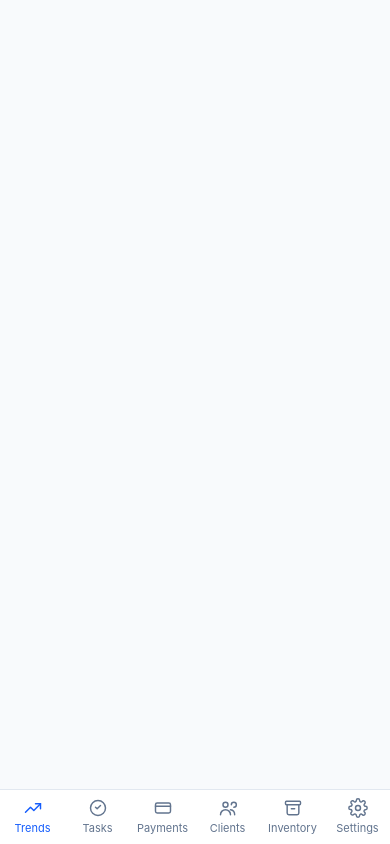
MobileNav › кнопка "×" в шапке закрывает bottom-sheet (useMenuSub().close)
Click the button "Inventory".
click(292, 817)  # box [260, 790, 325, 843]
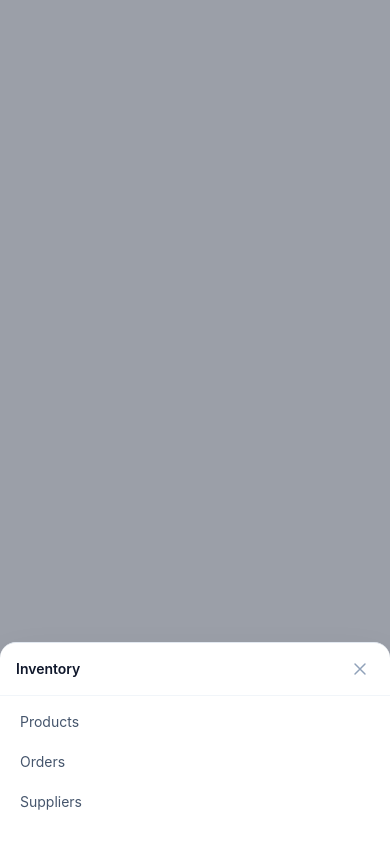
Click the button named "Закрыть".
click(360, 669)  # box [346, 655, 374, 683]
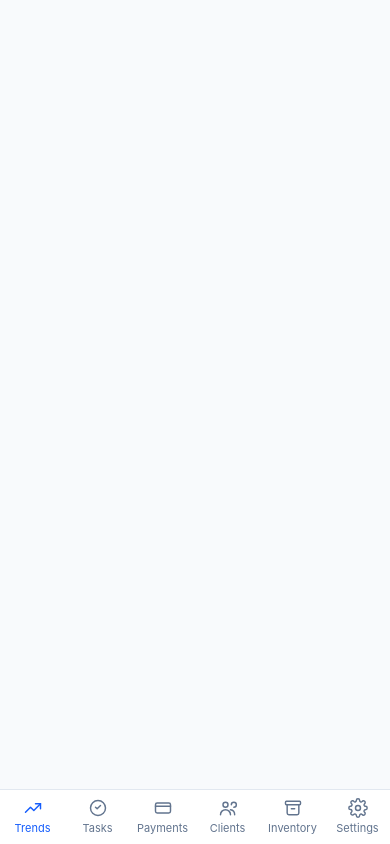
Expected: the button "Inventory" is collapsed, [260, 790, 325, 843]
